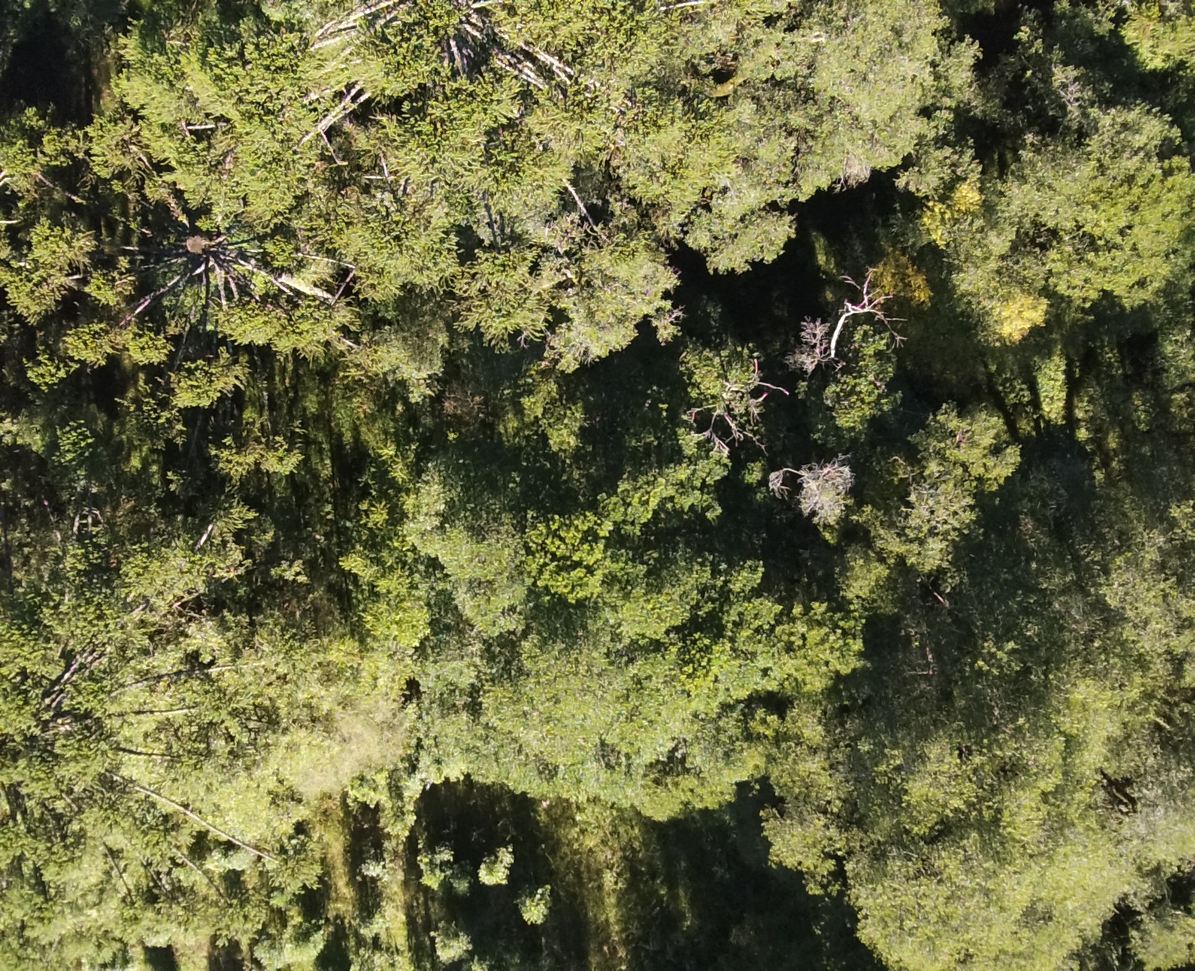erva: (402, 840, 459, 887), (418, 919, 476, 960), (513, 884, 564, 928), (474, 846, 511, 885)
